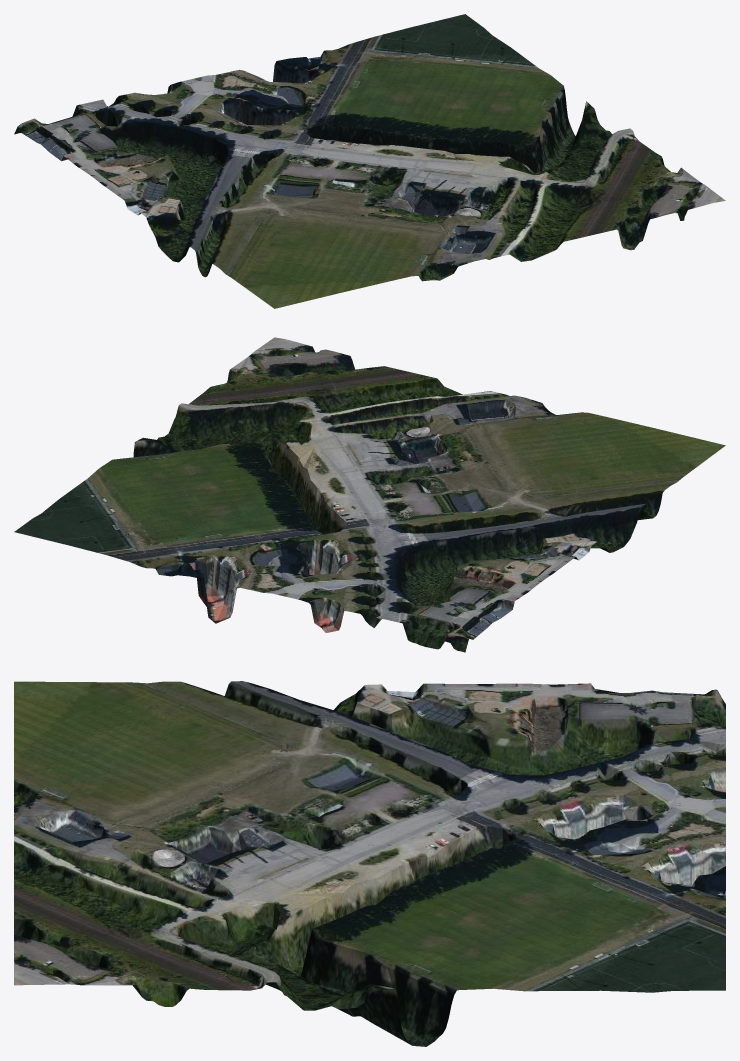
File: map_13_2045_3447.dae
The picture shows the model from 3 angles, top to bottom: view 1: azimuth 30°, elevation 25°; view 2: azimuth 150°, elevation 25°; view 3: azimuth 270°, elevation 25°; orthographic projection. The views are drawn at different scales.
Visible parts, largest first — view 1: Ter0; view 2: Ter0; view 3: Ter0.
Boxes of the visible parts, left/top/right/bottom form: Ter0: left=14, top=14, right=725, bottom=308; Ter0: left=14, top=337, right=725, bottom=652; Ter0: left=14, top=681, right=725, bottom=1046.
Size of the model in its own units: 256 by 256 by 27.39.
3 materials, 3 textured.
